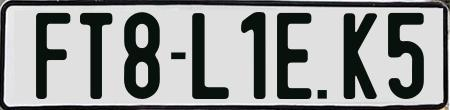1: (238, 9, 268, 96)
5: (385, 11, 425, 103)
8: (124, 9, 162, 101)
E: (275, 12, 310, 101)
F: (33, 13, 73, 105)
K: (342, 11, 380, 99)
L: (192, 13, 230, 102)
T: (77, 10, 114, 98)
